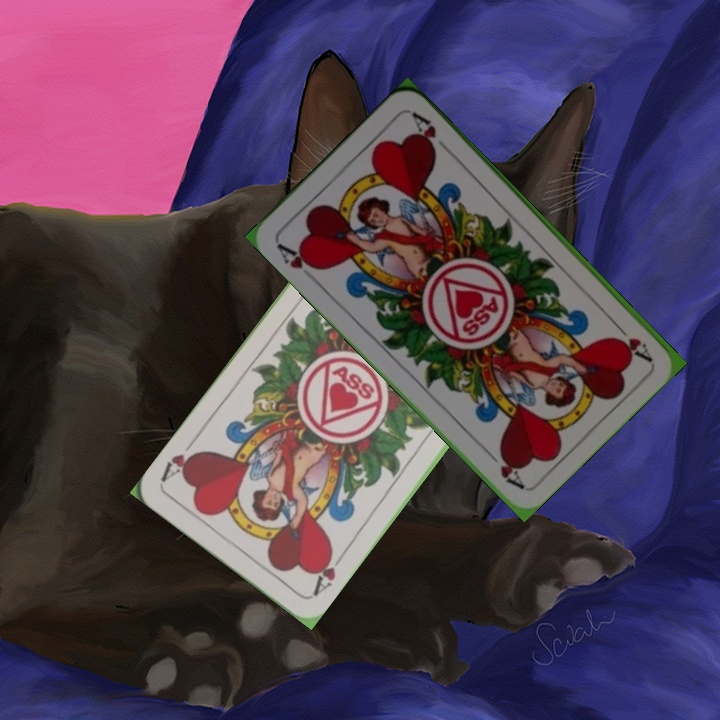HA: (608, 316, 654, 364), (308, 545, 348, 599), (272, 239, 325, 274)
